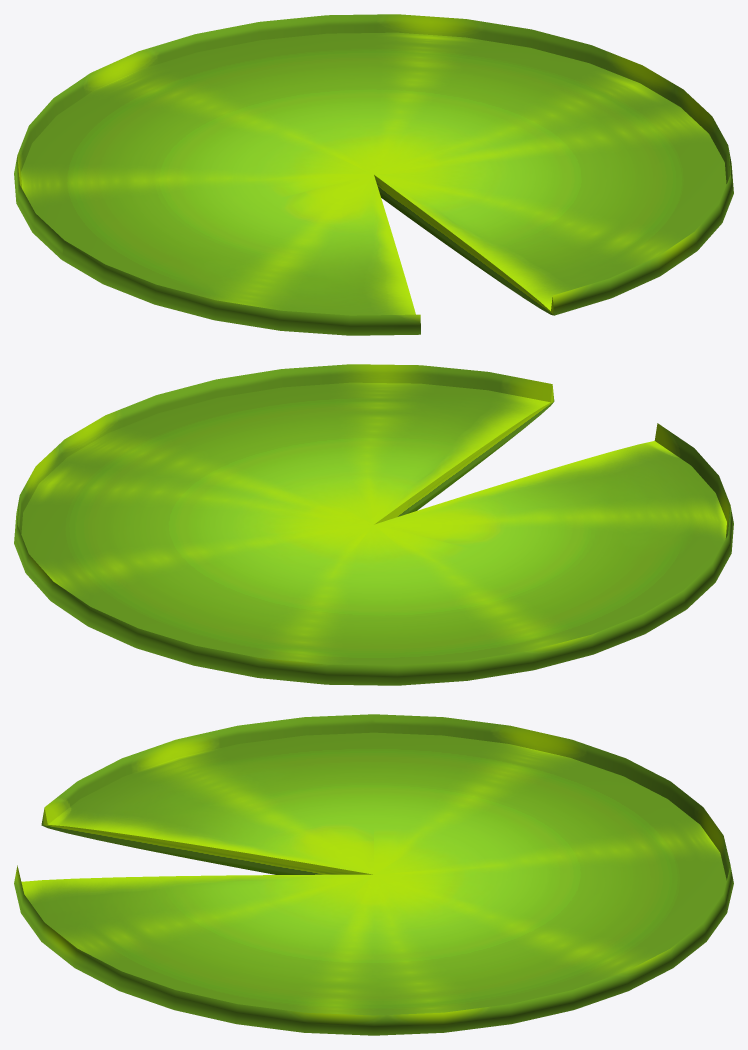
Rendered from Lilypad (2).fbx.
3 views of the same model, one above another, from view 1: azimuth 30°, elevation 25°; view 2: azimuth 150°, elevation 25°; view 3: azimuth 270°, elevation 25° (orthographic).
Visible parts, largest first — view 1: Sphere; view 2: Sphere; view 3: Sphere.
Boxes of the visible parts, left/top/right/bottom form: Sphere: left=14, top=14, right=733, bottom=335; Sphere: left=14, top=364, right=733, bottom=685; Sphere: left=14, top=714, right=733, bottom=1035.
Bounding box in the file's own units: 2 × 2 × 0.0846.
1 material, 1 textured.
